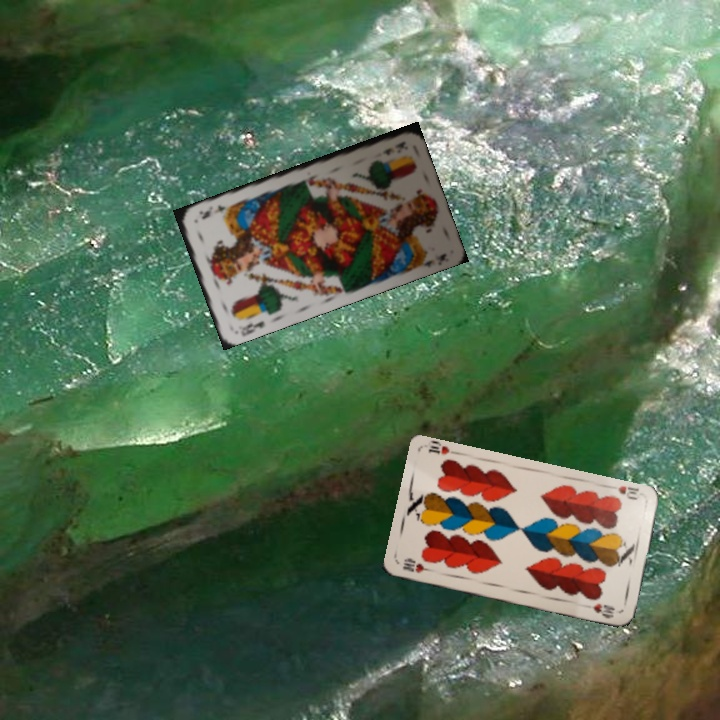EK: (238, 317, 267, 338), (379, 137, 409, 157)
H10: (399, 557, 437, 575), (614, 482, 641, 503)
